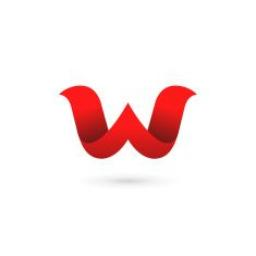w: (53, 73, 201, 171)
